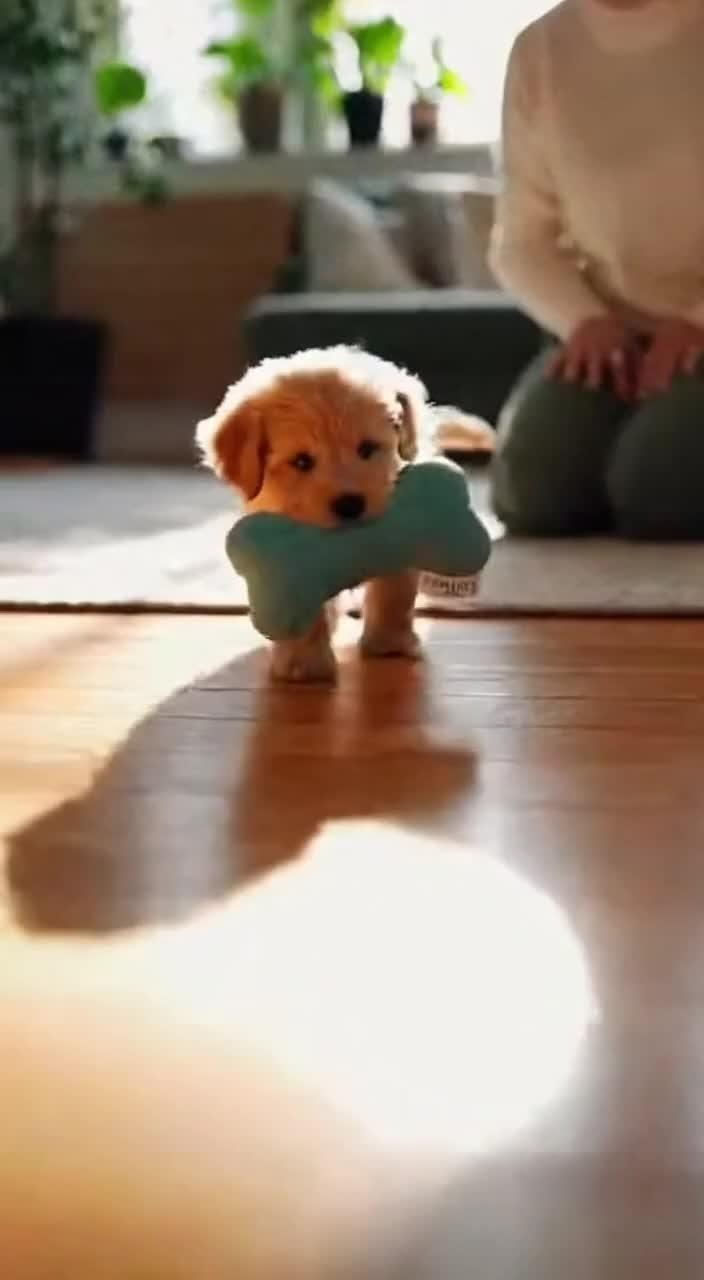non-dog: (486, 0, 704, 539)
puppy-dog: (195, 342, 498, 686)
